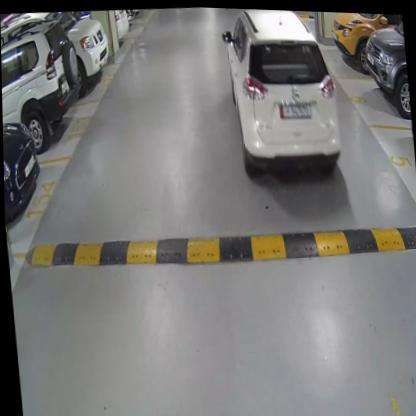np: (279, 100, 311, 118)
